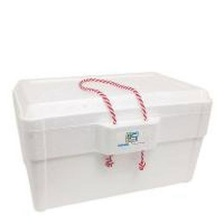foam_box: (8, 63, 219, 215)
